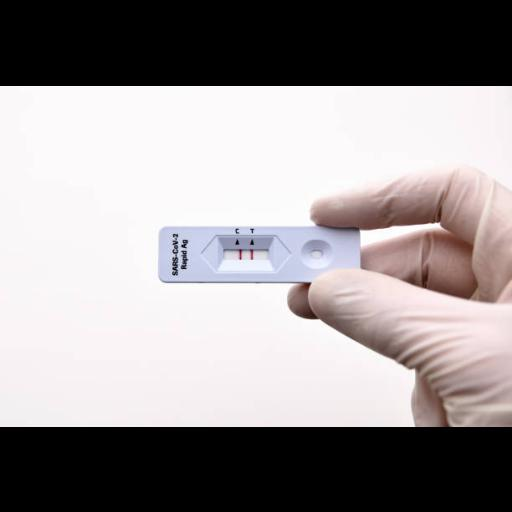Pos: (159, 224, 359, 284)
